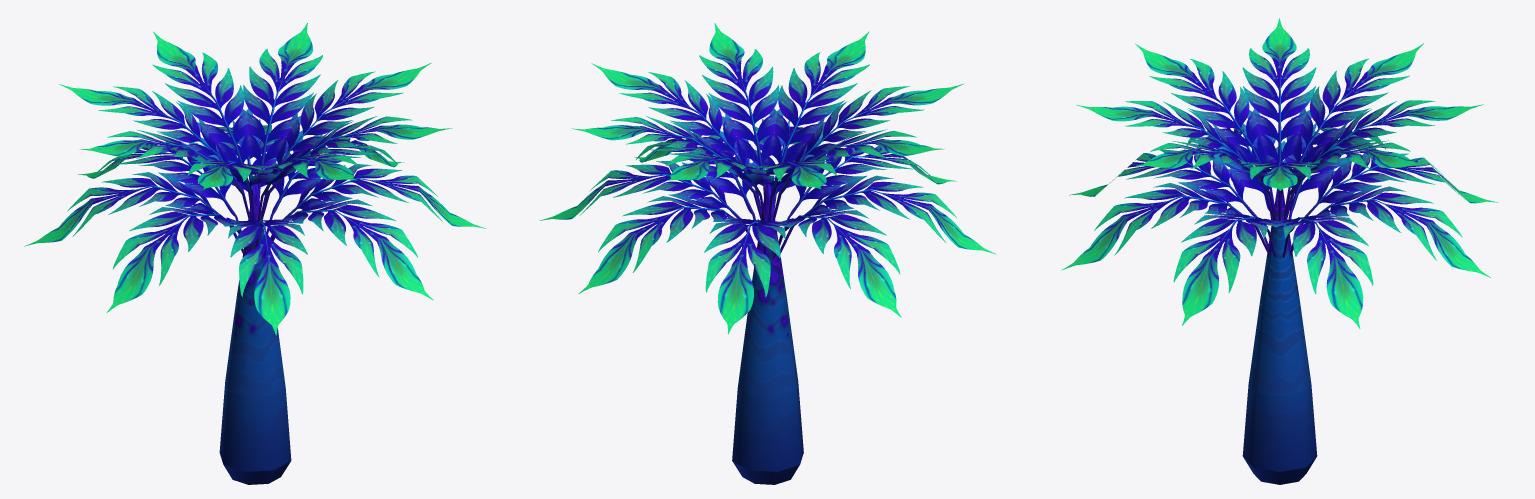
File: Blue_Tree_07b.FBX
The picture shows the model from 3 angles, left to right: view 1: azimuth 30°, elevation 25°; view 2: azimuth 150°, elevation 25°; view 3: azimuth 270°, elevation 25°; orthographic projection.
Visible parts, largest first — view 1: Blue_Tree_07b; view 2: Blue_Tree_07b; view 3: Blue_Tree_07b.
Boxes of the visible parts, x1=… form: Blue_Tree_07b: x1=24, y1=23, x2=486, y2=484; Blue_Tree_07b: x1=539, y1=23, x2=996, y2=484; Blue_Tree_07b: x1=1061, y1=18, x2=1498, y2=484.
Size of the model in its own units: 477 by 414 by 477.
